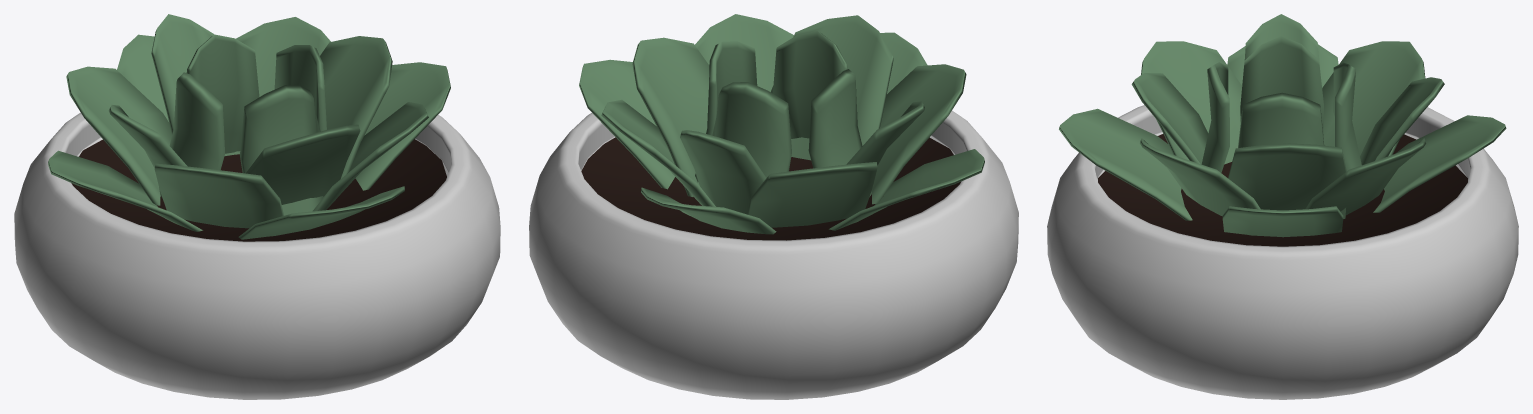
File: tanaman ikea 2.fbx
3 renders of one model, left to right at view 1: azimuth 30°, elevation 25°; view 2: azimuth 150°, elevation 25°; view 3: azimuth 270°, elevation 25°, orthographic. The views are drawn at different scales.
Parts seen in each view (by area): view 1: Sphere, Cube.007, Cube.005, Cube.008, Cube.011, Cube.012, Cube.013, Cube.001, Cube.014, Cube.010, Cube, Cube.006 (+5 smaller); view 2: Sphere, Cube.008, Cube.005, Cube.007, Cube.011, Cube.012, Cube.013, Cube.010, Cube.014, Cube.001, Cube, Cube.004 (+5 smaller); view 3: Sphere, Cube.002, Cube.008, Cube.005, Cube.007, Cube.003, Cube.014, Cube.015, Cube.011, Cube.001, Cube.004, Cube.006 (+5 smaller).
Part boxes in pixels (box(x1,y1,x2,y2)): Sphere: box(14, 112, 500, 399); Cube.007: box(154, 163, 283, 228); Cube.005: box(66, 66, 171, 205); Cube.008: box(320, 36, 392, 178); Cube.011: box(245, 124, 360, 204); Cube.012: box(186, 34, 259, 153); Cube.013: box(240, 85, 323, 215); Cube.001: box(355, 62, 450, 190); Cube.014: box(159, 72, 224, 199); Cube.010: box(151, 14, 240, 155); Cube: box(48, 150, 202, 231); Cube.006: box(236, 17, 330, 96); Sphere: box(529, 110, 1018, 399); Cube.008: box(632, 37, 709, 196); Cube.005: box(747, 162, 877, 227); Cube.007: box(872, 64, 966, 204); Cube.011: box(771, 15, 893, 160); Cube.012: box(714, 82, 791, 177); Cube.013: box(773, 31, 847, 138); Cube.010: box(680, 130, 766, 214); Cube.014: box(808, 69, 872, 196); Cube.001: box(579, 59, 675, 189); Cube: box(829, 149, 984, 230); Cube.004: box(695, 14, 793, 91); Sphere: box(1047, 105, 1518, 399); Cube.002: box(1059, 108, 1192, 220); Cube.008: box(1228, 143, 1346, 218); Cube.005: box(1322, 41, 1425, 156); Cube.007: box(1141, 41, 1242, 164); Cube.003: box(1373, 115, 1506, 212); Cube.014: box(1240, 36, 1323, 133); Cube.015: box(1238, 92, 1324, 147); Cube.011: box(1131, 73, 1208, 164); Cube.001: box(1222, 206, 1343, 237); Cube.004: box(1140, 138, 1260, 216); Cube.006: box(1305, 138, 1425, 215).
Size of the model in its own units: 282 by 184 by 282.
1 material, 1 textured.
